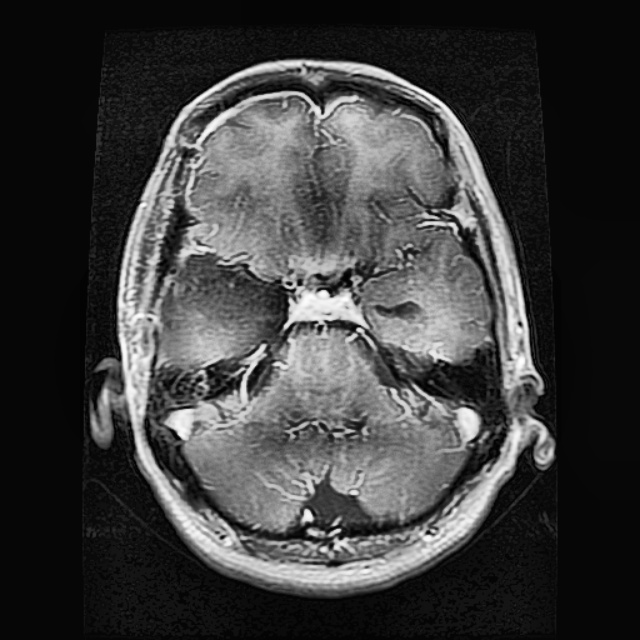Glioma: (155, 245, 292, 373)
